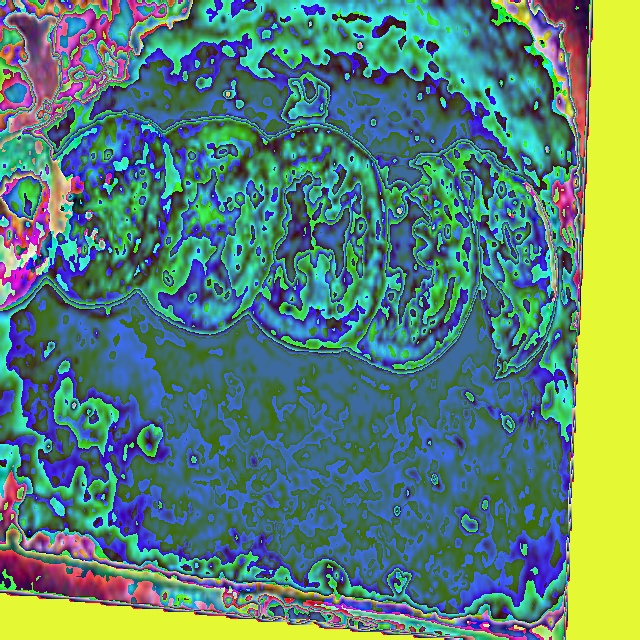background: (0, 0, 584, 640)
